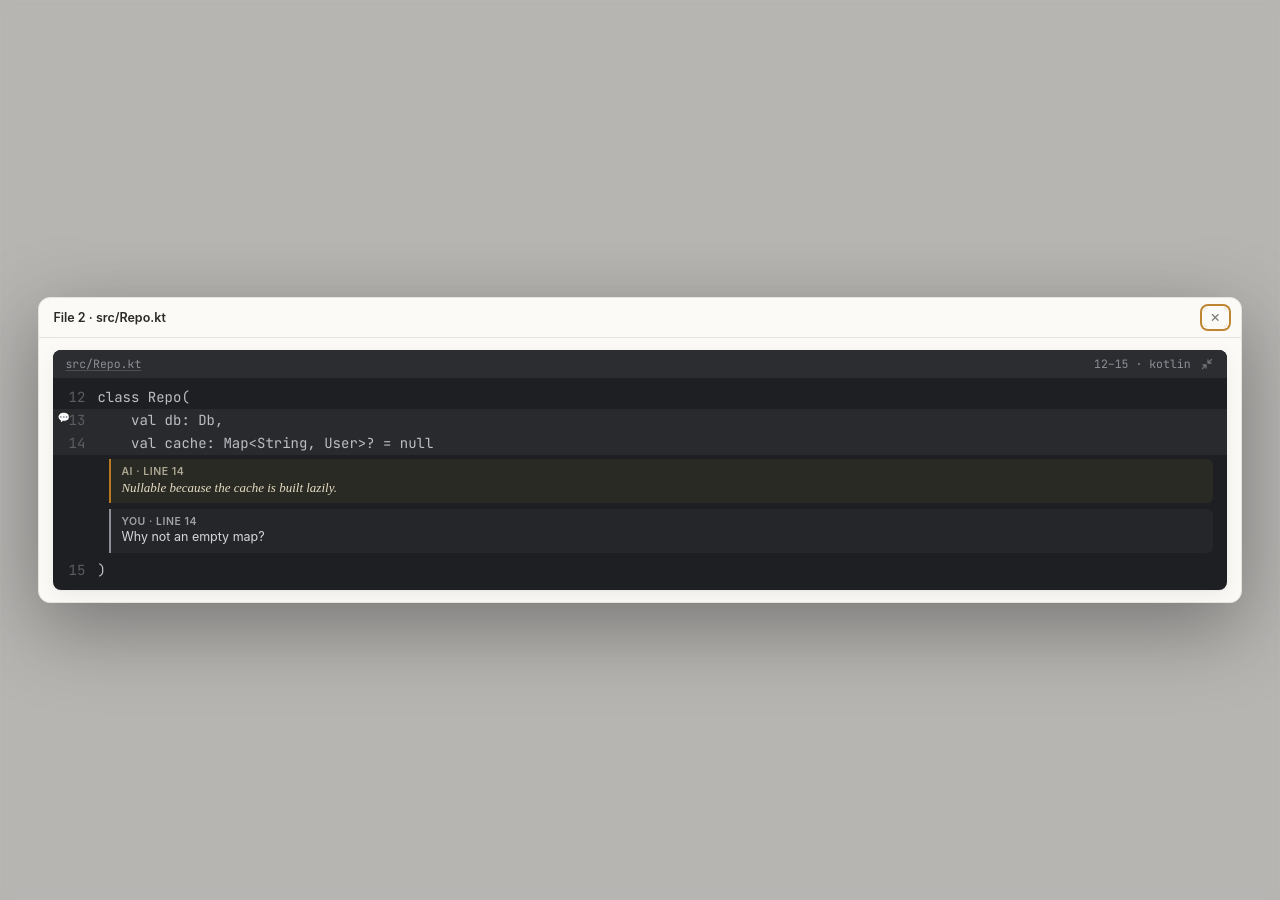
Test: BlockModal › takes line comments inside the modal
The width and height of the screenshot is (1280, 900).
Click the button named "Line 13". click: {"x": 75, "y": 420}
box: [53, 409, 97, 432]
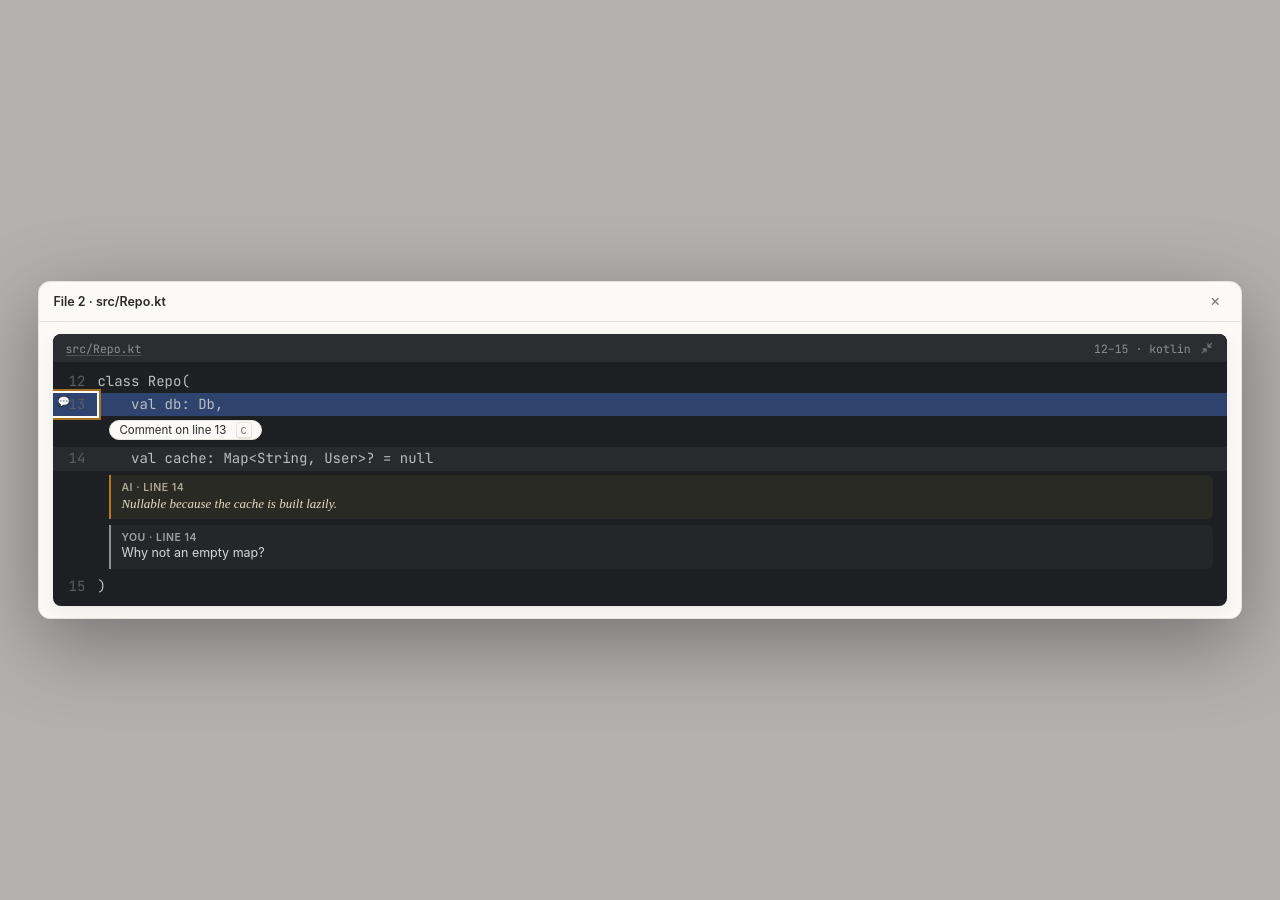
Click the button "Comment on line 13 c". click: {"x": 186, "y": 430}
box: [109, 420, 262, 440]
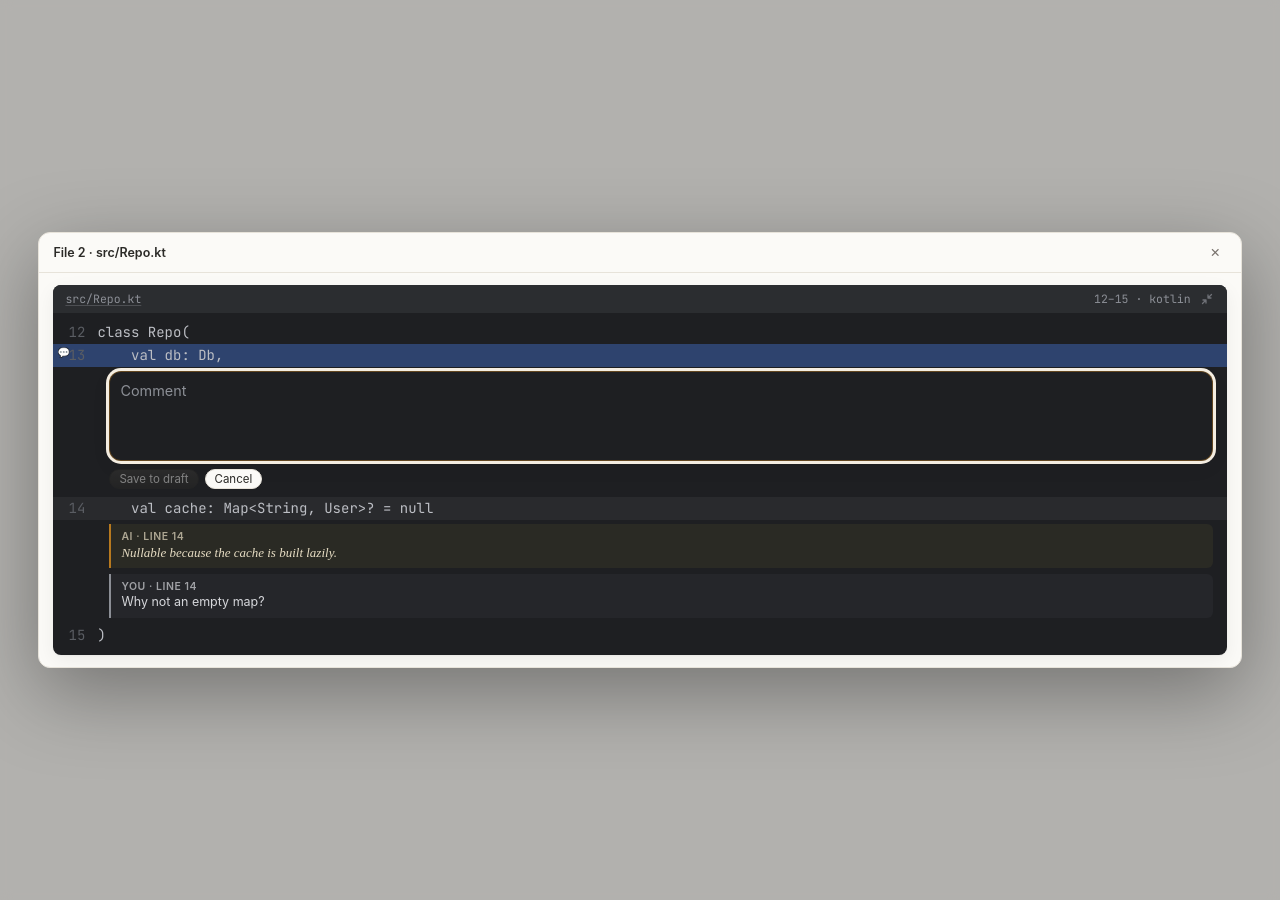
Type "Bigger here." into the text box labelled "Comment". click: {"x": 661, "y": 412}
box: [120, 380, 1202, 445]
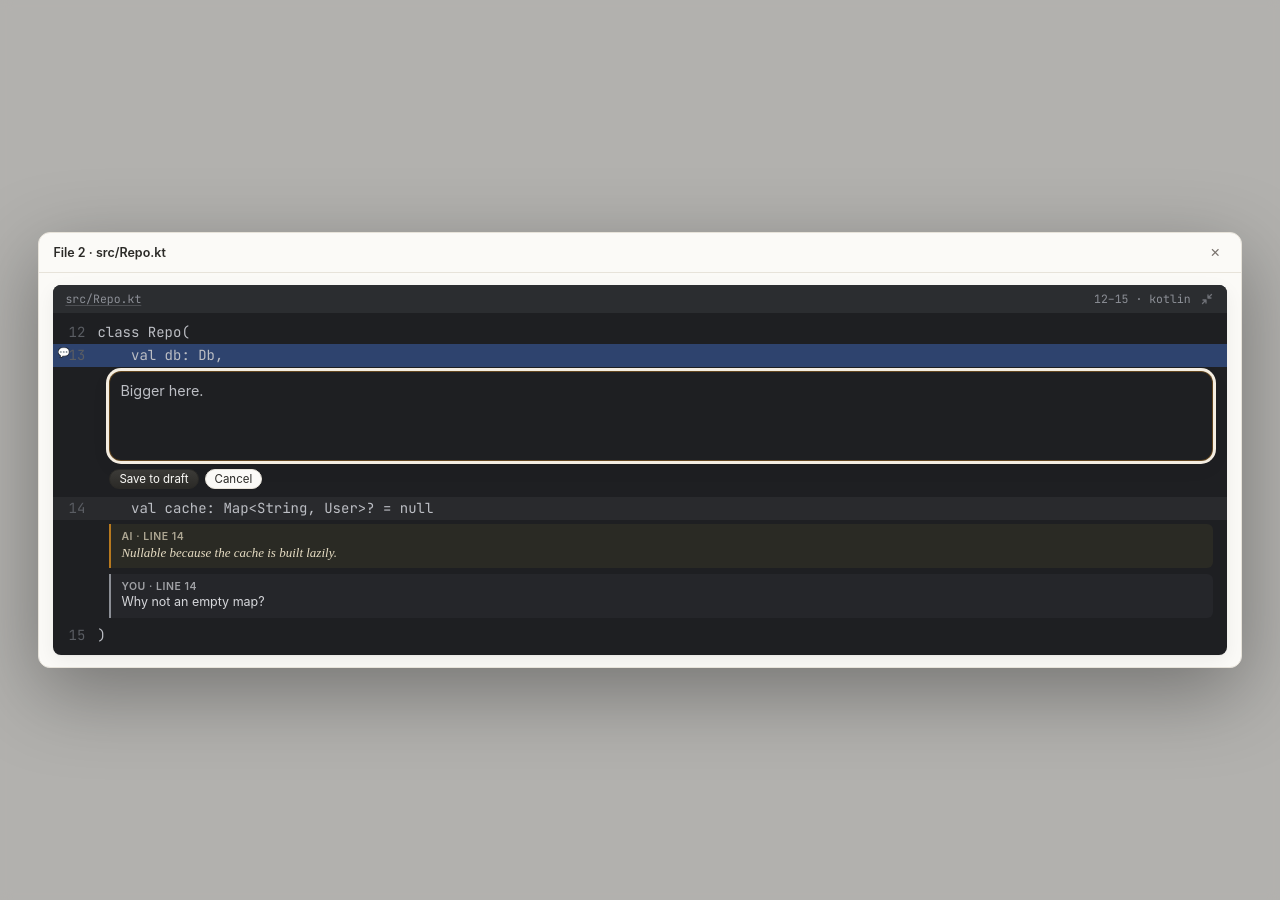
Click the button "Save to draft". click: {"x": 154, "y": 479}
box: [109, 469, 198, 489]
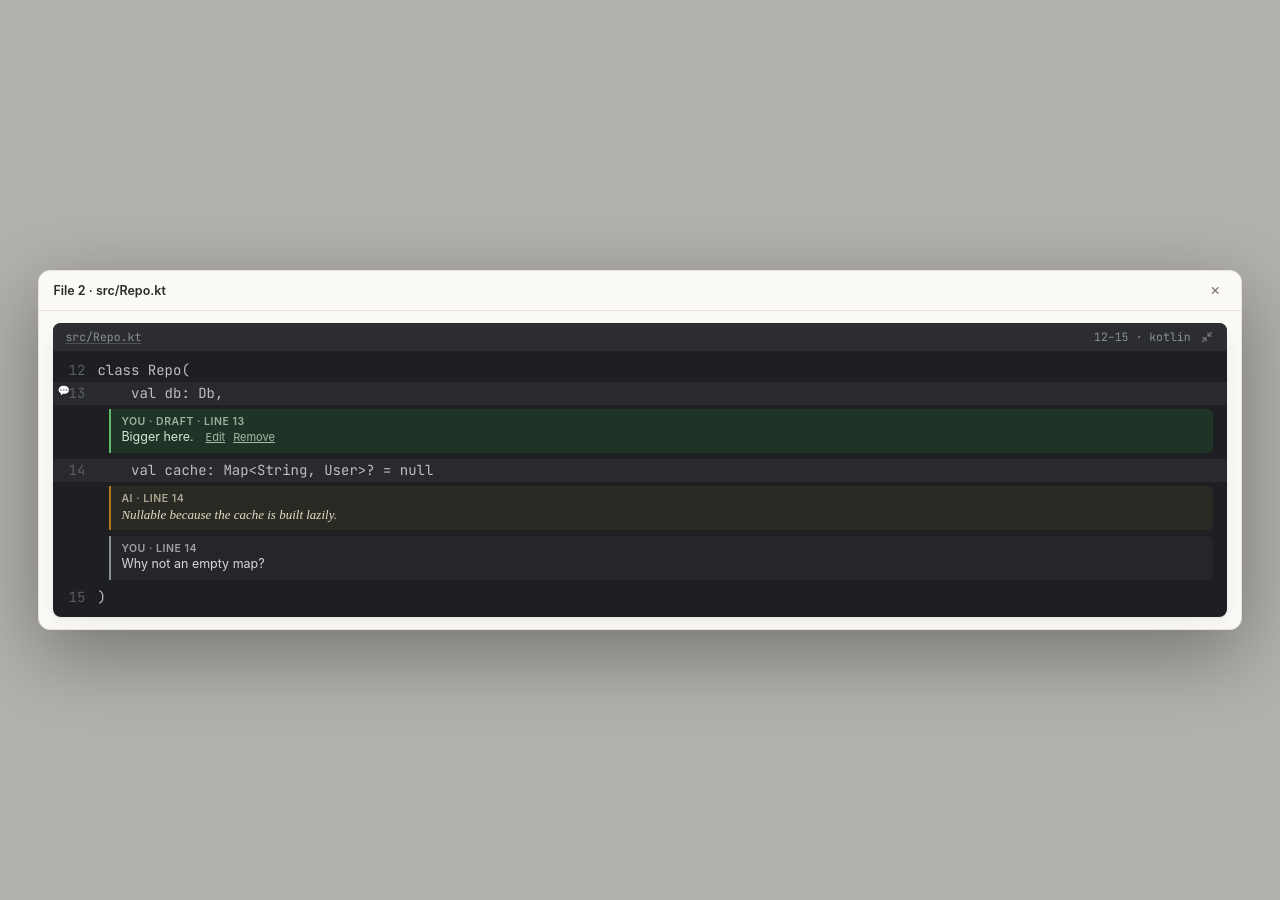
Expected: the text "Bigger here." is shown, [121, 429, 194, 444]
